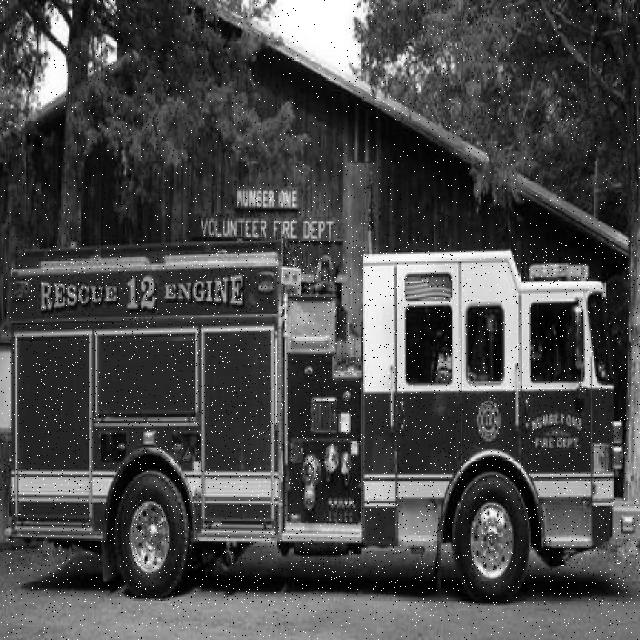Fire Truck: (9, 239, 640, 606)
